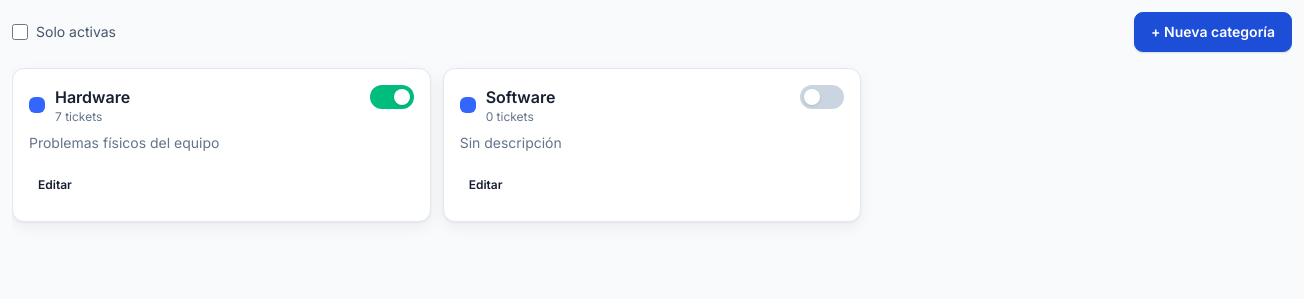
Test case: Categories › muestra el error devuelto por la API al activar o desactivar
Expected: the text "Hardware" is shown, [55,85,130,109]
Click the switch named "Hardware".
click(392, 97)  # box [370,85,414,109]
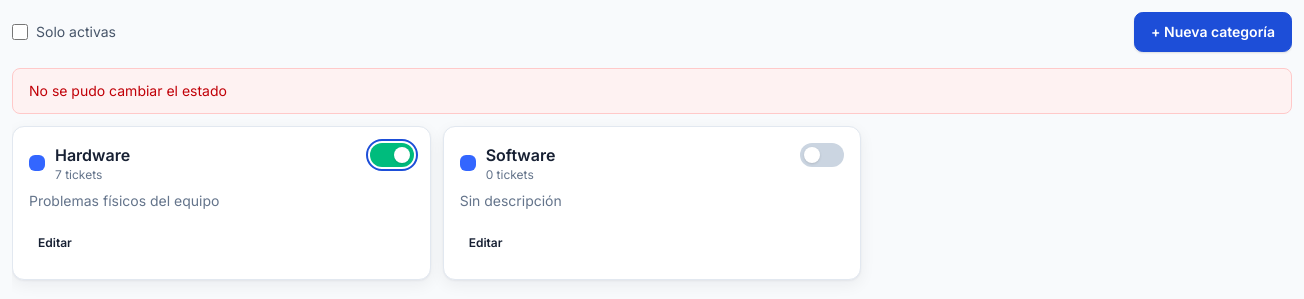
Now the message "No se pudo cambiar el estado" is shown, box [12,68,1292,114]
